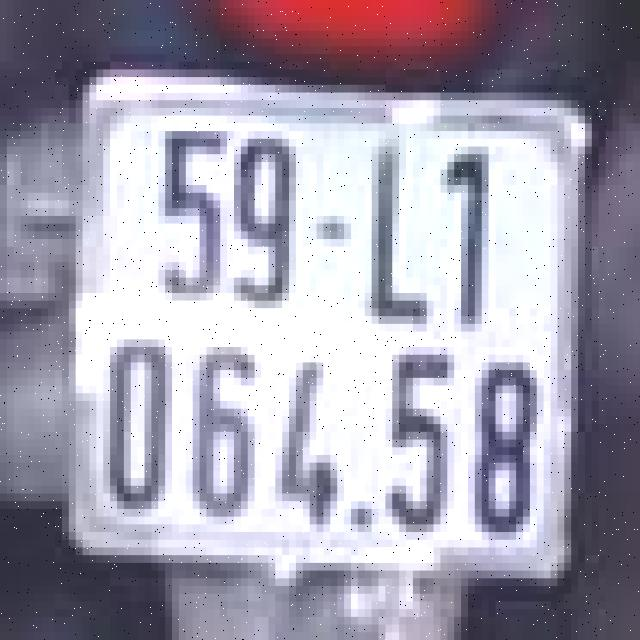0: (103, 324, 179, 532)
1: (448, 138, 502, 332)
4: (278, 343, 340, 521)
5: (368, 343, 458, 528), (145, 120, 227, 304)
6: (179, 320, 268, 528)
8: (465, 351, 540, 551)
9: (234, 128, 296, 312)
L: (361, 123, 437, 324)
